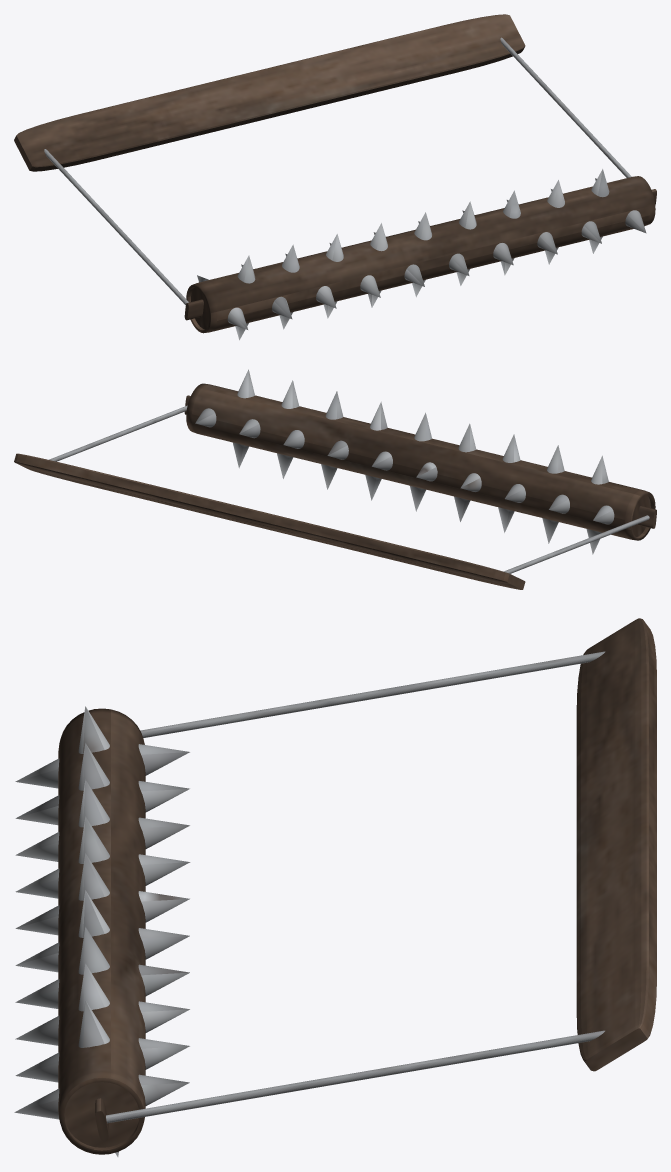
File: log trap_Real Final.fbx
3 views of the same model, one above another, from view 1: azimuth 30°, elevation 25°; view 2: azimuth 150°, elevation 25°; view 3: azimuth 270°, elevation 25° (orthographic). The views are drawn at different scales.
Parts seen in each view (by area): view 1: 실린더; view 2: 실린더; view 3: 실린더.
Boxes of the visible parts, box(x1,y1,x2,y2) form: 실린더: box(14, 14, 656, 340); 실린더: box(14, 369, 656, 589); 실린더: box(14, 618, 656, 1156).
Size of the model in its own units: 2225 by 490 by 1475.
Materials: 1 (1 with a texture image).
